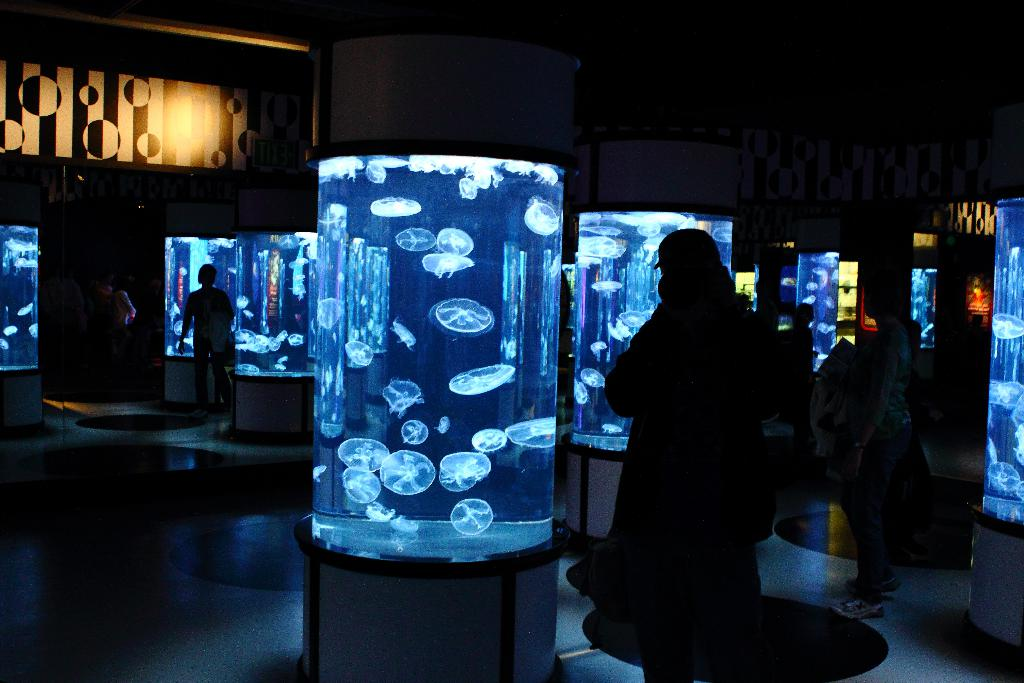Jellyfish: (309, 151, 560, 539), (570, 209, 733, 445), (983, 309, 1023, 508), (236, 290, 309, 370), (429, 292, 497, 337)
